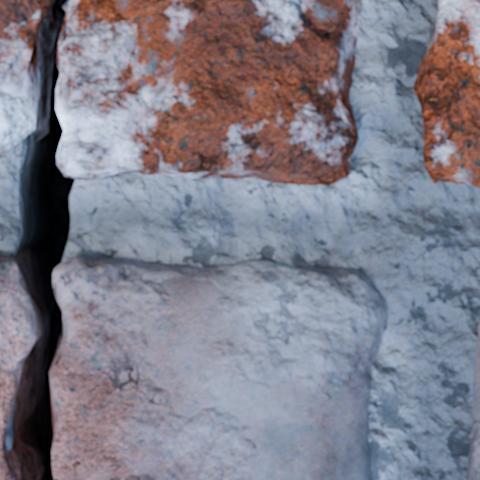brick: (414, 0, 479, 187), (467, 321, 479, 479)
broken_brick: (53, 255, 388, 479), (57, 0, 363, 185), (0, 253, 35, 479), (0, 0, 48, 157)
crack: (1, 0, 76, 479)
